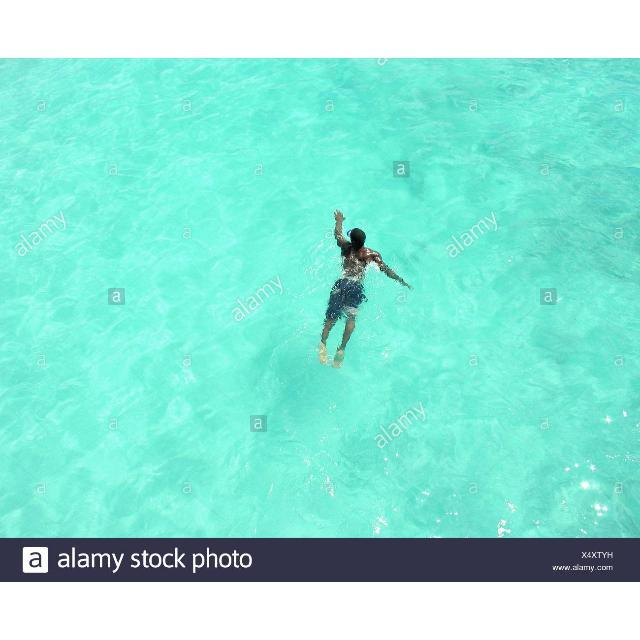human: (317, 207, 413, 372)
